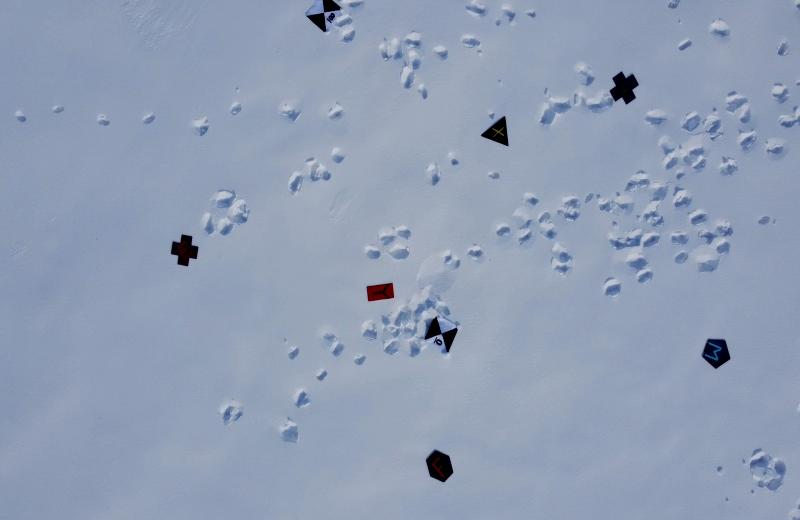Cross: (166, 234, 203, 271), (608, 70, 642, 108)
Hexagon: (423, 448, 456, 484)
Pentagon: (700, 336, 733, 372)
Rectangle: (363, 278, 397, 306)
Triangle: (474, 113, 516, 149)
